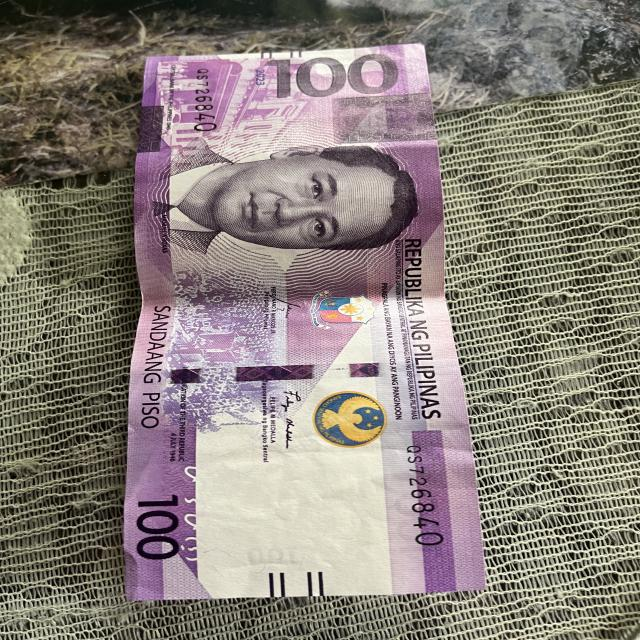concealed_value: (334, 93, 436, 142)
security_thread: (140, 362, 450, 387)
see_through_mark: (178, 462, 218, 568)
serial_number: (400, 436, 450, 557), (194, 66, 218, 134)
value: (260, 52, 407, 98)
value_watermark: (245, 545, 300, 566)
